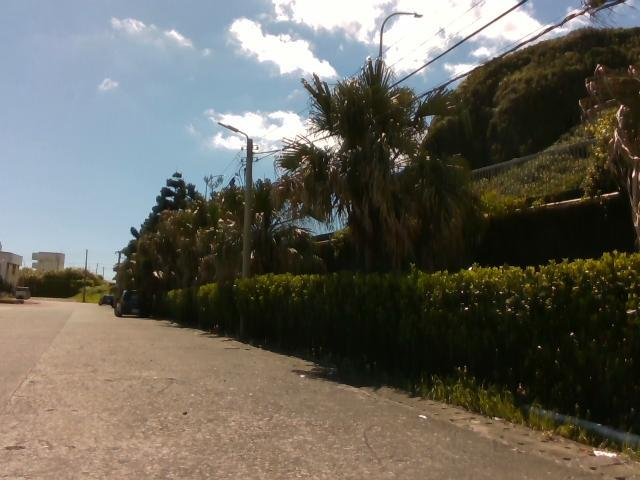pollute: (587, 447, 619, 459)
